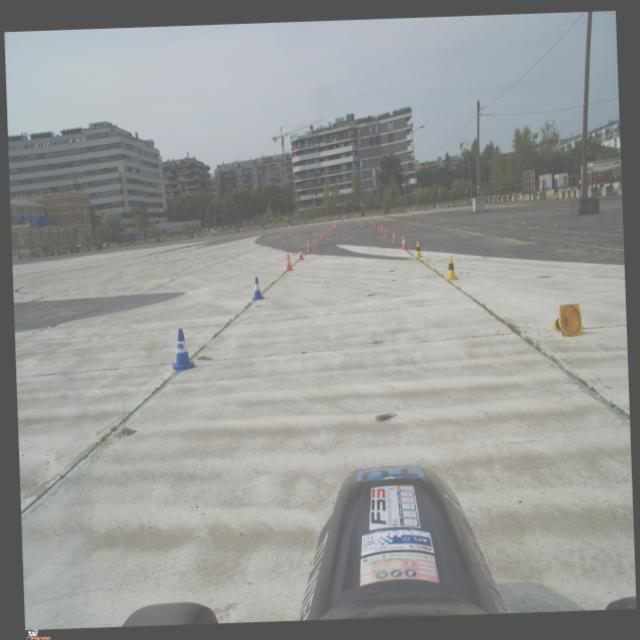blue_cone: (170, 328, 196, 372), (250, 276, 264, 300)
large_orange_cone: (368, 216, 370, 224), (334, 220, 336, 228)
orange_cone: (550, 303, 582, 337), (444, 256, 458, 280), (284, 252, 294, 270), (400, 234, 408, 249), (297, 244, 303, 260), (306, 239, 312, 252), (314, 234, 319, 245), (392, 230, 396, 242), (379, 224, 384, 233), (384, 226, 388, 237), (320, 231, 324, 240), (324, 228, 327, 236), (378, 222, 381, 230), (373, 222, 376, 228), (330, 224, 333, 230), (332, 223, 334, 229), (328, 226, 330, 232), (371, 220, 373, 226)
yellow_cone: (413, 240, 422, 258)
